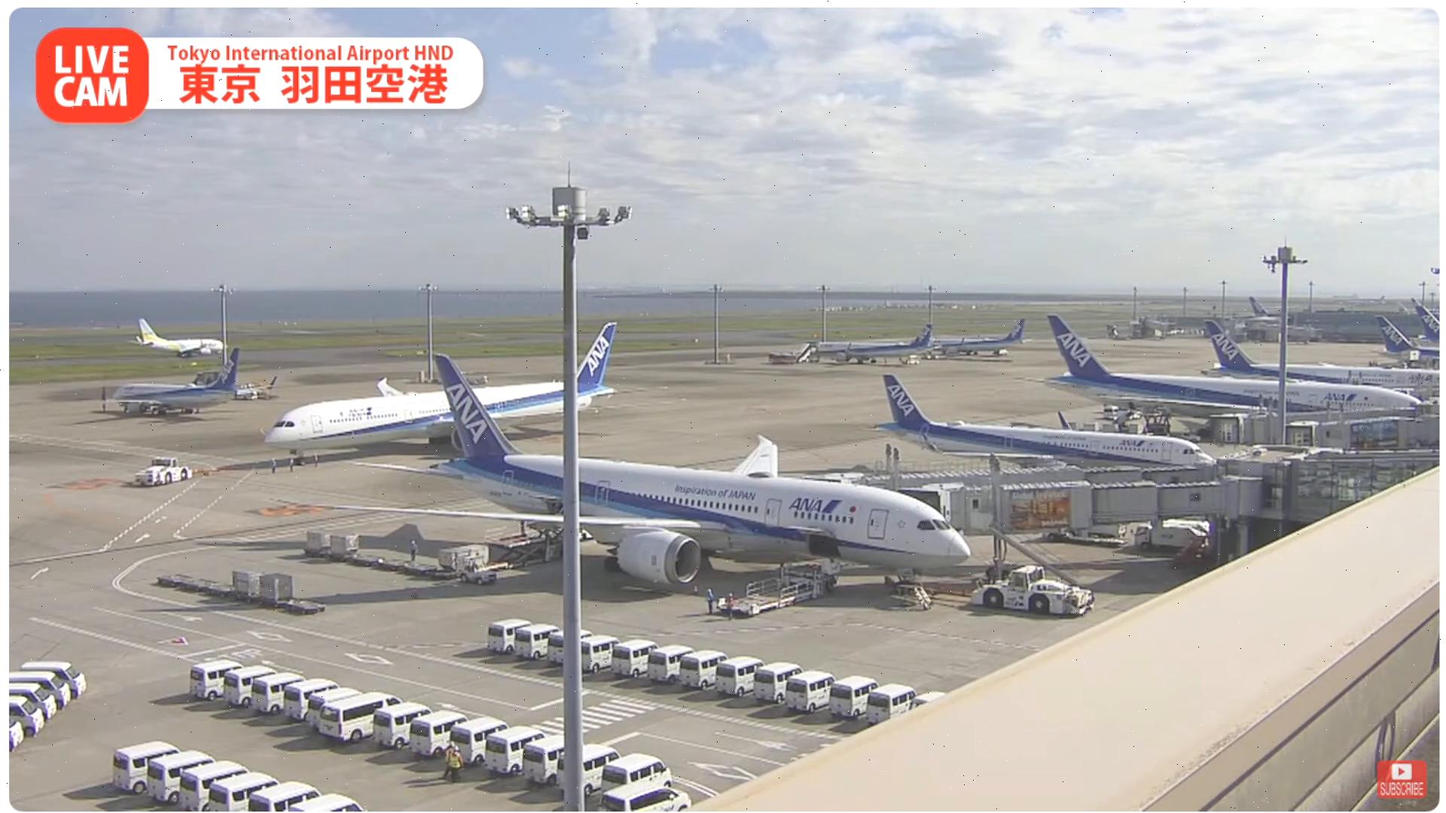APS: (969, 564, 1106, 619)
Aerobridge: (896, 476, 1261, 541), (843, 457, 1217, 496)
Airplane: (330, 354, 973, 599)
Dolly: (301, 529, 474, 579), (159, 569, 329, 616)
JCPL: (714, 553, 842, 618), (486, 518, 573, 571)
Tractor: (462, 555, 498, 585)
Window: (1290, 456, 1440, 523)
